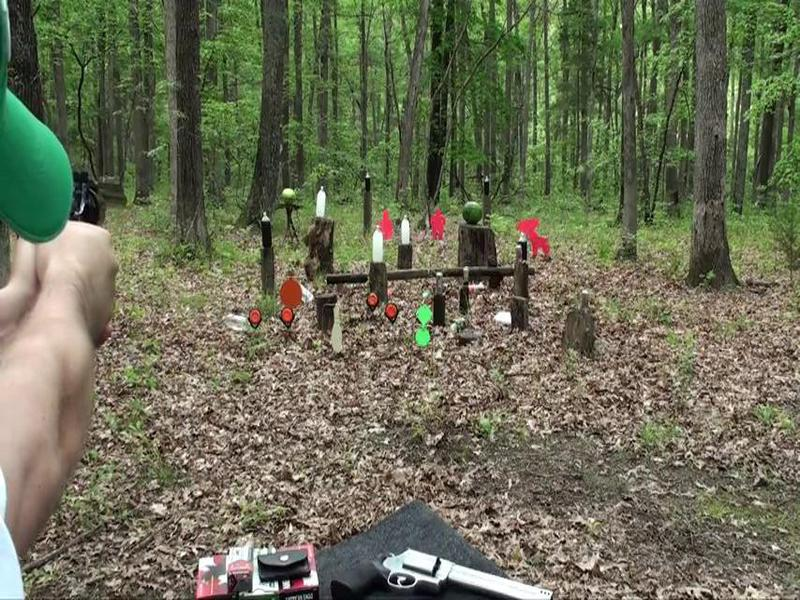Revolver: (40, 167, 135, 234)
